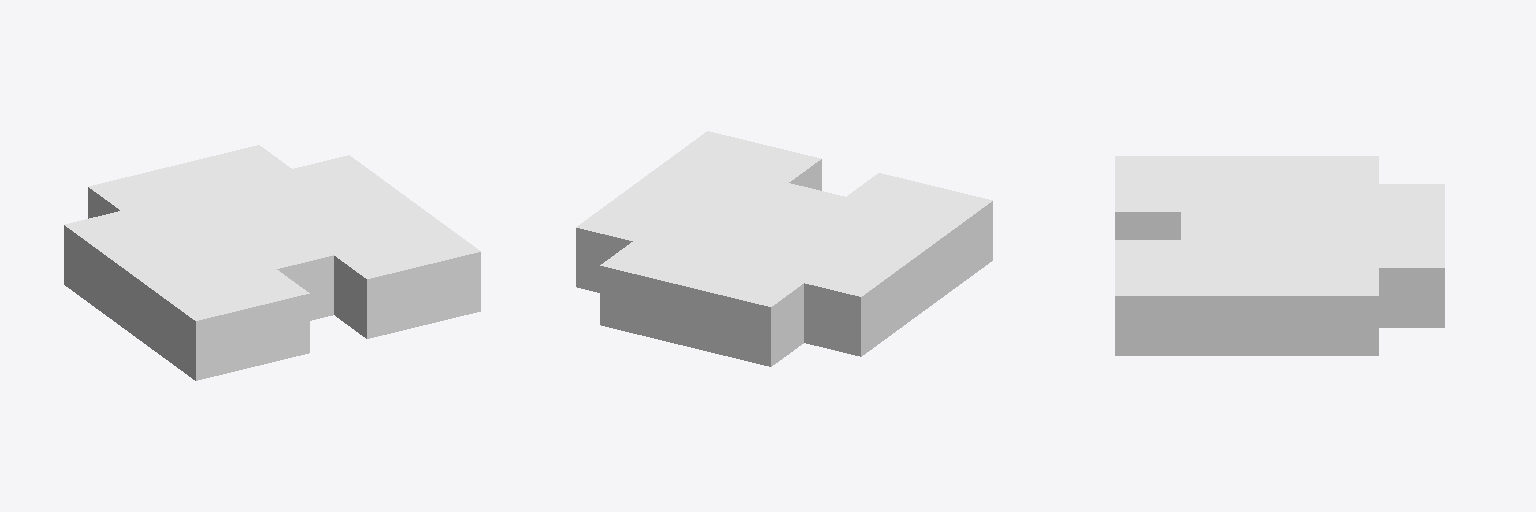
The model's file is lilipad.vox.obj.
The picture shows the model from 3 angles: view 1: azimuth 30°, elevation 25°; view 2: azimuth 150°, elevation 25°; view 3: azimuth 270°, elevation 25°; orthographic projection.
Visible parts, largest first — view 1: object 1; view 2: object 1; view 3: object 1.
Boxes of the visible parts, x1,y1,x2,y2 form: object 1: [64, 145, 480, 380]; object 1: [576, 131, 992, 366]; object 1: [1115, 156, 1444, 355].
Size of the model in its own units: 0.5 by 0.1 by 0.5.